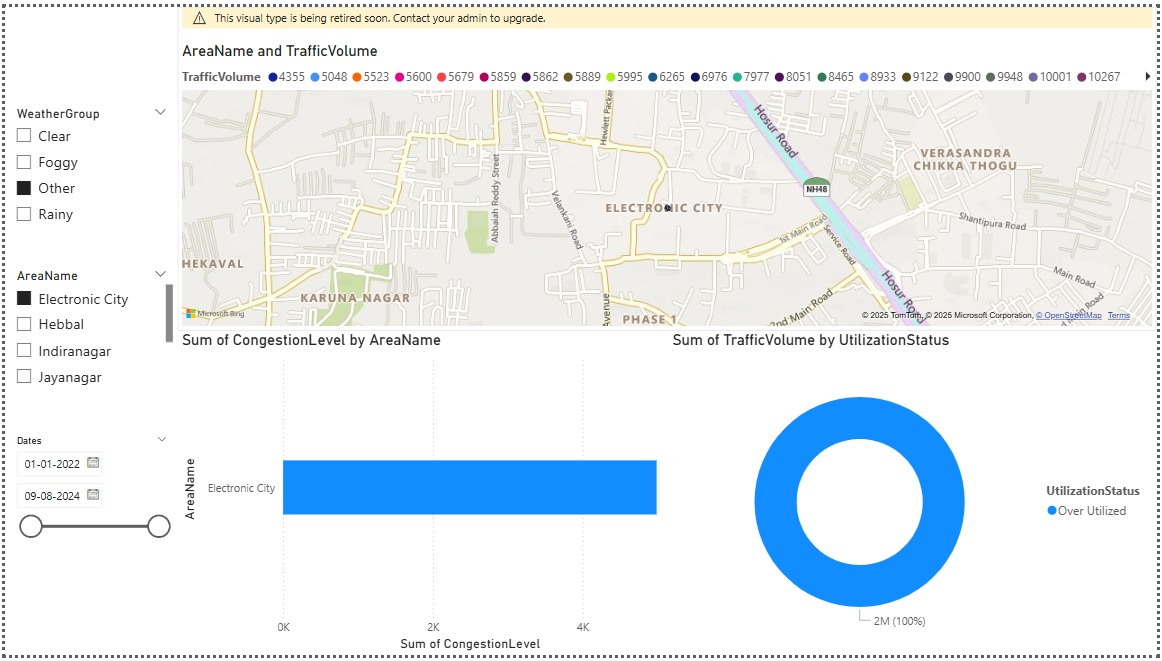

The page's visual inventory and layout, read from the dashboard file:
{"tool":"powerbi","page":{"name":"Page 2","canvas":[1280,720],"ordinal":1},"visuals":[{"type":"map","fields":{"Category":["TrafficData.AreaName"],"Series":["TrafficData.TrafficVolume"]},"box":[191.7,0,1088.3,360],"z":0},{"type":"clusteredBarChart","fields":{"Category":["TrafficData.AreaName"],"Y":["Sum(TrafficData.CongestionLevel)"]},"box":[191.7,360,545,360],"z":1},{"type":"donutChart","fields":{"Category":["TrafficData.UtilizationStatus"],"Y":["Sum(TrafficData.TrafficVolume)"]},"box":[736.7,360,543.3,360],"z":2},{"type":"slicer","fields":{"Values":["TrafficData.WeatherGroup"]},"box":[0,105,191.7,150],"z":3},{"type":"slicer","fields":{"Values":["TrafficData.AreaName"]},"box":[0,285,191.7,150],"z":4},{"type":"slicer","fields":{"Values":["TrafficData.Dates"]},"box":[0,470,191.7,140],"z":5}]}

Visuals, with their boxes in screenshot pixels (x1, y1, x2, y2), scaled from the page's 1280x720 canvas onto the 1162x661 screenshot:
map - TrafficData.AreaName x TrafficData.TrafficVolume: box(174, 0, 1161, 330)
clusteredBarChart - TrafficData.AreaName x Sum(TrafficData.CongestionLevel): box(174, 330, 669, 660)
donutChart - TrafficData.UtilizationStatus x Sum(TrafficData.TrafficVolume): box(669, 330, 1161, 660)
slicer - TrafficData.WeatherGroup: box(0, 96, 174, 234)
slicer - TrafficData.AreaName: box(0, 262, 174, 399)
slicer - TrafficData.Dates: box(0, 431, 174, 560)
